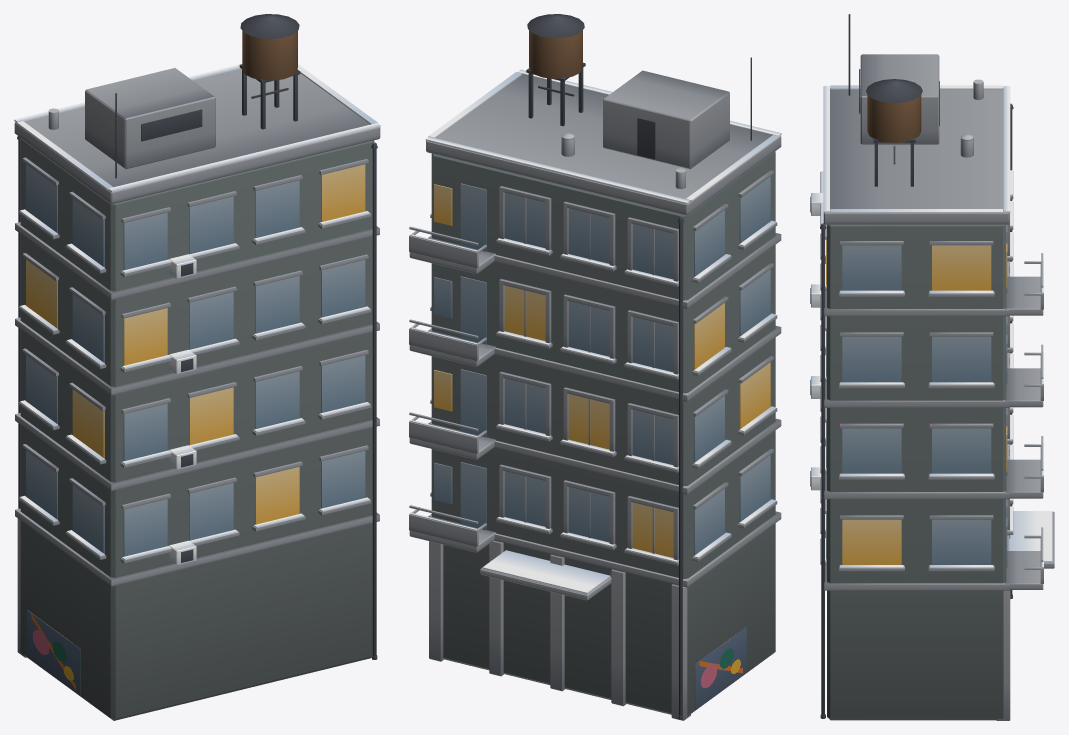
File: ck_tower_slab.fbx
The picture shows the model from 3 angles, left to right: view 1: azimuth 30°, elevation 25°; view 2: azimuth 150°, elevation 25°; view 3: azimuth 270°, elevation 25°; orthographic projection. The views are drawn at different scales.
Visible parts, largest first — view 1: ck_tower_slab; view 2: ck_tower_slab; view 3: ck_tower_slab.
Part boxes in pixels (x1,y1,x2,y2): ck_tower_slab: (14,14,380,720); ck_tower_slab: (409,14,781,720); ck_tower_slab: (810,14,1054,720).
Bounding box in the file's own units: 2369 × 5200 × 1899.
